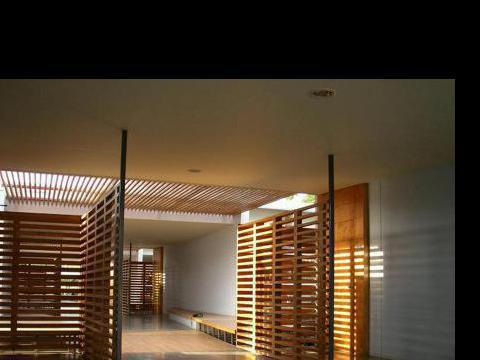Puerta: (318, 194, 365, 352)
